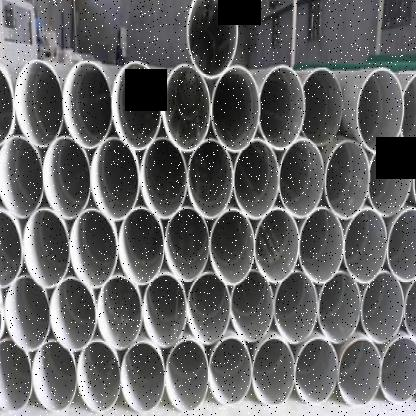pipe: (111, 61, 162, 150), (62, 61, 113, 148), (211, 66, 261, 154), (185, 0, 239, 80), (14, 59, 63, 147), (356, 67, 404, 156), (162, 65, 210, 152), (90, 138, 139, 221), (43, 136, 91, 220), (140, 137, 188, 219), (260, 66, 306, 150), (70, 209, 118, 288), (187, 139, 233, 219), (233, 138, 278, 219), (324, 141, 370, 220), (0, 136, 44, 218), (23, 209, 69, 287), (298, 207, 344, 284), (280, 139, 324, 219), (119, 207, 164, 285), (254, 209, 300, 284), (49, 278, 96, 351), (368, 141, 413, 217), (5, 276, 50, 350), (301, 67, 344, 144), (210, 209, 254, 284), (142, 274, 186, 348), (97, 276, 142, 348), (165, 209, 209, 282), (274, 271, 318, 344), (318, 272, 362, 344), (344, 210, 387, 283), (231, 270, 274, 342), (187, 272, 230, 344), (77, 340, 120, 412), (32, 340, 76, 409), (362, 272, 404, 344), (121, 342, 164, 412), (338, 339, 382, 407), (252, 338, 296, 405), (209, 337, 252, 405), (166, 341, 208, 410), (295, 339, 339, 404), (380, 336, 416, 403), (0, 338, 32, 410), (387, 208, 416, 283), (0, 208, 21, 287), (0, 59, 16, 148), (401, 68, 416, 154), (403, 271, 416, 342)
